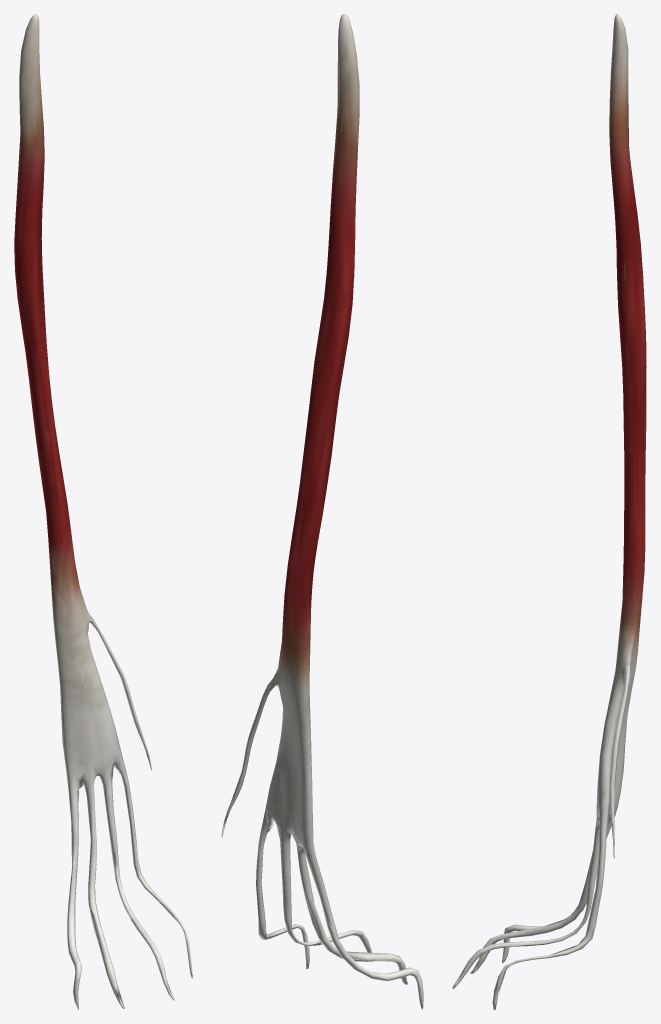
The model's file is RF Extensor digitorum lateralis.fbx.
3 views of the same model, side by side, from view 1: azimuth 30°, elevation 25°; view 2: azimuth 150°, elevation 25°; view 3: azimuth 270°, elevation 25° (orthographic). The views are drawn at different scales.
Visible parts, largest first — view 1: RF Extensor digitorum lateralis, RF Extensor digitorum lateralis low, RF Extensor digitorum lateralis high; view 2: RF Extensor digitorum lateralis, RF Extensor digitorum lateralis low, RF Extensor digitorum lateralis high; view 3: RF Extensor digitorum lateralis, RF Extensor digitorum lateralis low, RF Extensor digitorum lateralis high.
Part boxes in pixels (left/top/right/bottom): RF Extensor digitorum lateralis: left=14, top=14, right=192, bottom=1009; RF Extensor digitorum lateralis low: left=15, top=14, right=187, bottom=1007; RF Extensor digitorum lateralis high: left=16, top=18, right=189, bottom=1006; RF Extensor digitorum lateralis: left=221, top=14, right=423, bottom=1009; RF Extensor digitorum lateralis low: left=221, top=15, right=422, bottom=993; RF Extensor digitorum lateralis high: left=226, top=18, right=418, bottom=987; RF Extensor digitorum lateralis: left=452, top=14, right=646, bottom=1009; RF Extensor digitorum lateralis low: left=455, top=14, right=646, bottom=1000; RF Extensor digitorum lateralis high: left=455, top=24, right=645, bottom=1003.
Size of the model in its own units: 1.92 by 13.31 by 2.45.
Materials: 1 (1 with a texture image).
